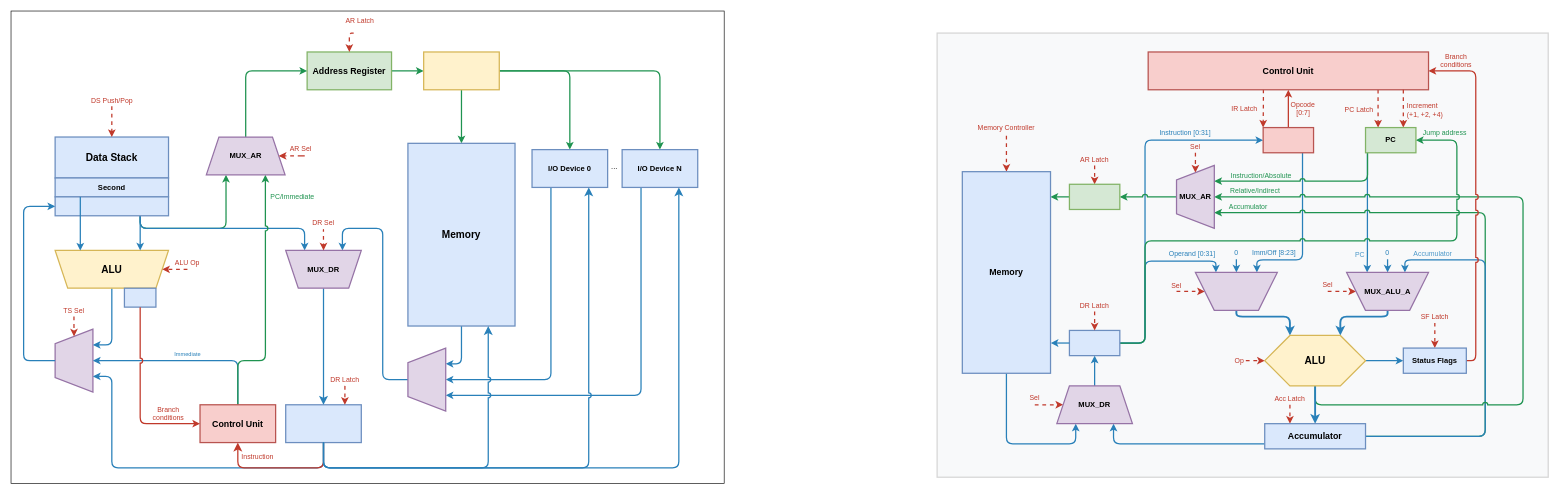
Image size: 1560x495. Some labels were removed from this diagram. Each missing label, with the centre of its shape:
Address Decoder: the point at 461,70
AR: the point at 1094,196
Data Register: the point at 323,423
DR: the point at 1094,342
IR: the point at 1288,140
MUX_ALU_B: the point at 1236,291
MUX_IO: the point at 426,379
MUX_TS: the point at 73,360
SF: the point at 139,297
Top: the point at 111,206
